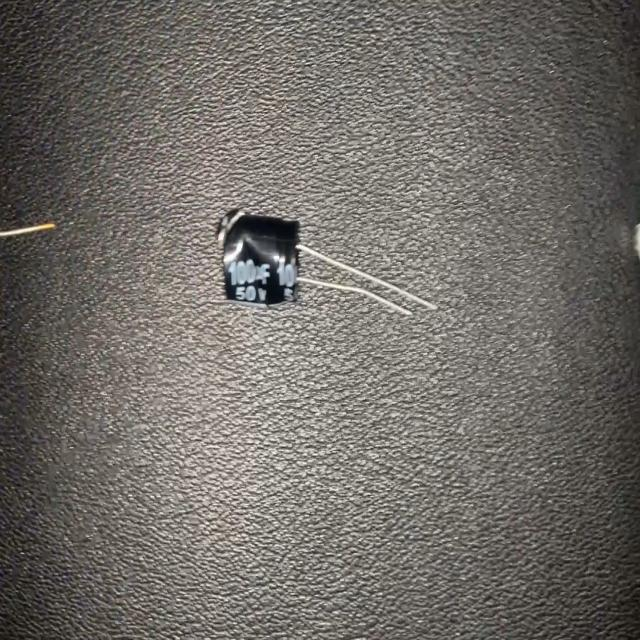capacitor: (214, 205, 440, 322)
cracked: (247, 232, 281, 272), (223, 228, 247, 276), (217, 208, 245, 248)
